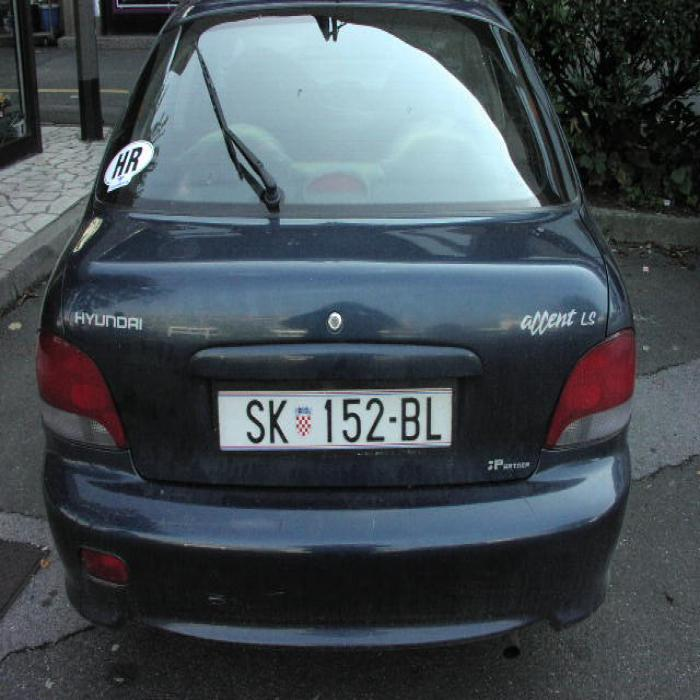number_plate: (218, 391, 448, 442)
